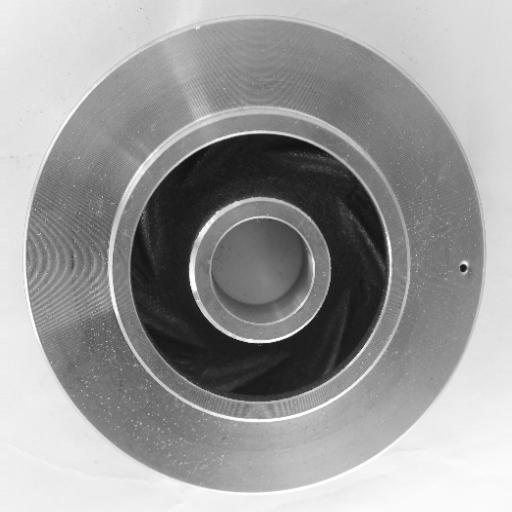pit: (447, 254, 476, 283)
unpolished_casting: (23, 15, 484, 491)
